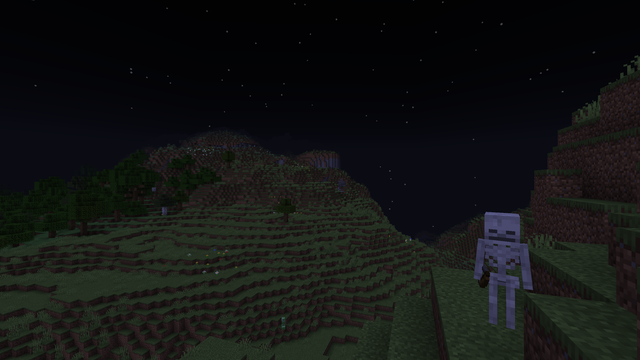creepers: (280, 316, 285, 329)
squelettes: (478, 212, 528, 335)
